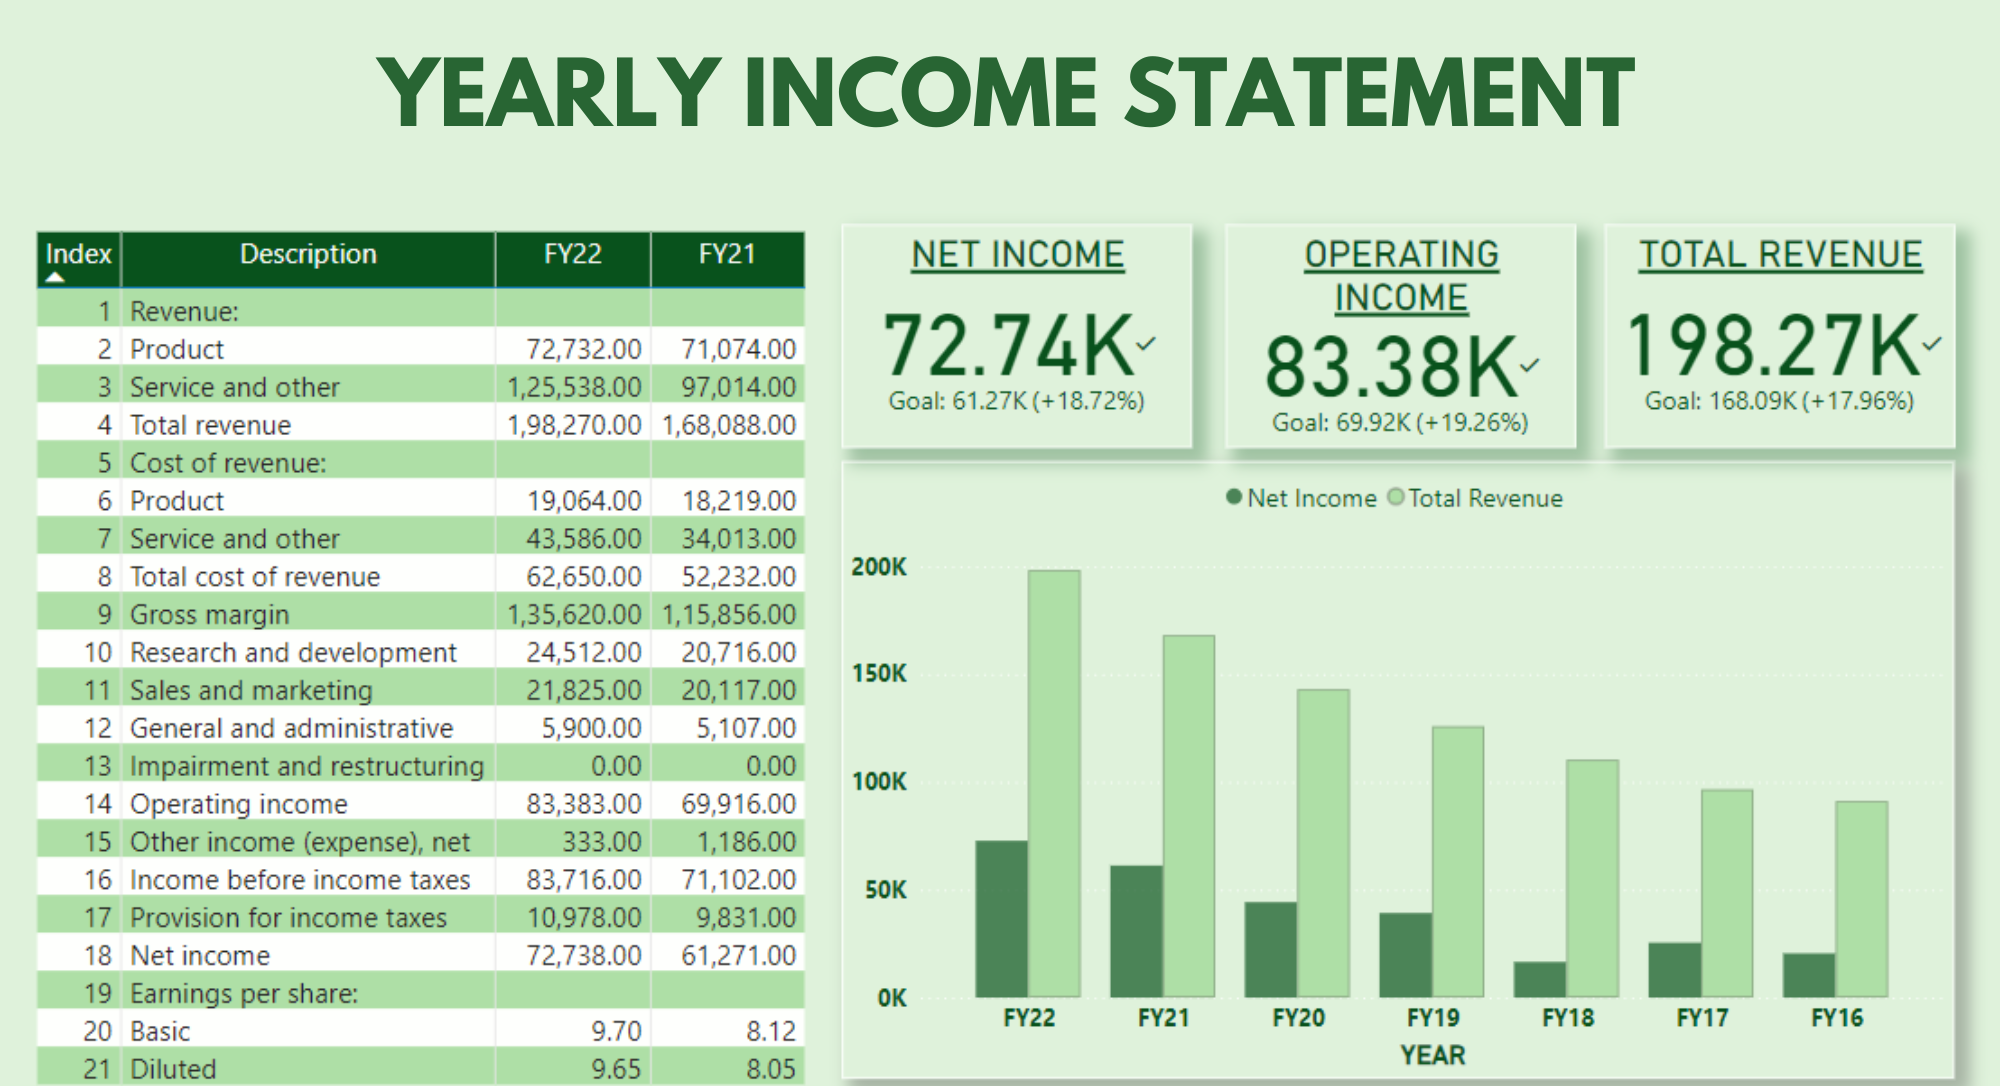

The dashboard page shown, as its layout file describes it:
{"tool":"powerbi","page":{"name":"Income statement dashboard","canvas":[1280,720],"ordinal":0},"visuals":[{"type":"tableEx","fields":{"Values":["Yearly Income Statements.Index","Yearly Income Statements.Description","Yearly Income Statements.FY22","Yearly Income Statements.FY21"]},"box":[22.9,168.6,501.4,551.4],"z":0},{"type":"kpi","title":"NET INCOME","fields":{"Indicator":["Sum(Net Income.FY22)"],"Goal":["Sum(Net Income.FY21)"],"TrendLine":["Net Income.Description"]},"box":[538.6,168.6,221.4,141.4],"z":1000},{"type":"kpi","title":"OPERATING INCOME","fields":{"Indicator":["Sum(Operating Income.FY22)"],"Goal":["Sum(Operating Income.FY21)"],"TrendLine":["Operating Income.Description"]},"box":[781.4,168.6,221.4,141.4],"z":2000},{"type":"kpi","title":"TOTAL REVENUE","fields":{"Goal":["Sum(Total Revenue.FY21)"],"Indicator":["Sum(Total Revenue.FY22)"],"TrendLine":["Total Revenue.Description"]},"box":[1021.4,168.6,221.4,141.4],"z":3000},{"type":"clusteredColumnChart","fields":{"Category":["Table.Description"],"Y":["Sum(Table.Net income)","Sum(Table.      Total revenue)"]},"box":[538.6,318.6,704.3,391.4],"z":4000}]}

Visuals, with their boxes on the page's 1280x720 design canvas (x1, y1, x2, y2). These are canvas units, not pixel positions in the 2000x1086 screenshot, which may show the page scaled, cropped or inside an application window:
tableEx - Yearly Income Statements.Index x Yearly Income Statements.Description: {"x1": 23, "y1": 169, "x2": 524, "y2": 720}
"NET INCOME" kpi: {"x1": 539, "y1": 169, "x2": 760, "y2": 310}
"OPERATING INCOME" kpi: {"x1": 781, "y1": 169, "x2": 1003, "y2": 310}
"TOTAL REVENUE" kpi: {"x1": 1021, "y1": 169, "x2": 1243, "y2": 310}
clusteredColumnChart - Table.Description x Sum(Table.Net income): {"x1": 539, "y1": 319, "x2": 1243, "y2": 710}
